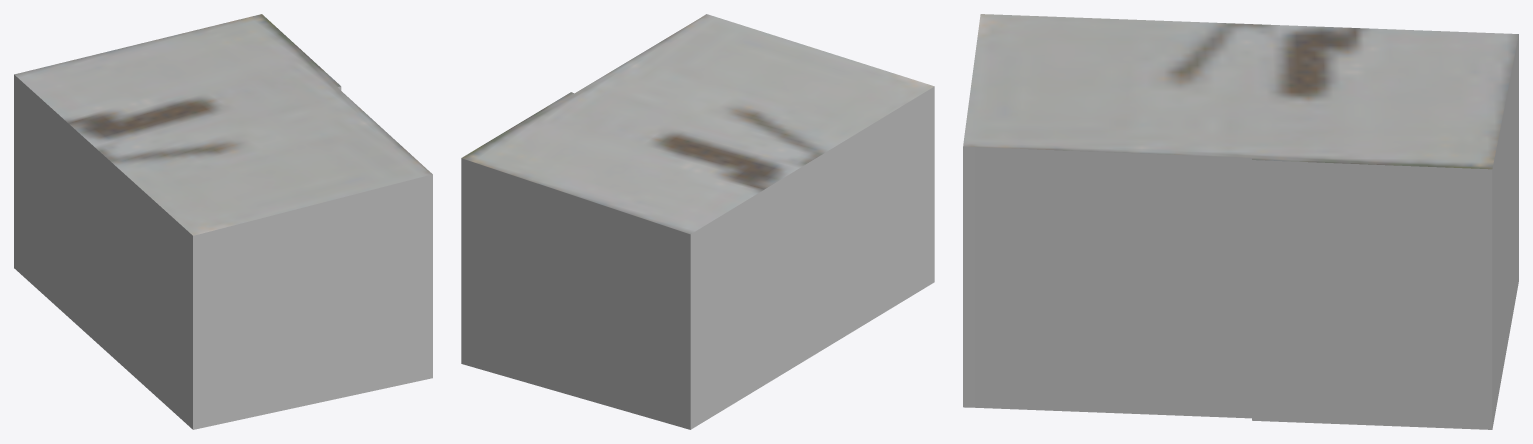
File: DEBW_0010007Tx7k.gltf
The picture shows the model from 3 angles, left to right: view 1: azimuth 30°, elevation 25°; view 2: azimuth 150°, elevation 25°; view 3: azimuth 270°, elevation 25°; orthographic projection. The views are drawn at different scales.
Parts seen in each view (by area): view 1: Z_UP; view 2: Z_UP; view 3: Z_UP.
Part boxes in pixels (x1,y1,x2,y2): Z_UP: [14, 14, 432, 429]; Z_UP: [461, 14, 934, 429]; Z_UP: [963, 14, 1518, 429].
Bounding box in the file's own units: 9.31 × 6.75 × 13.03.
Materials: 2 (1 with a texture image).
